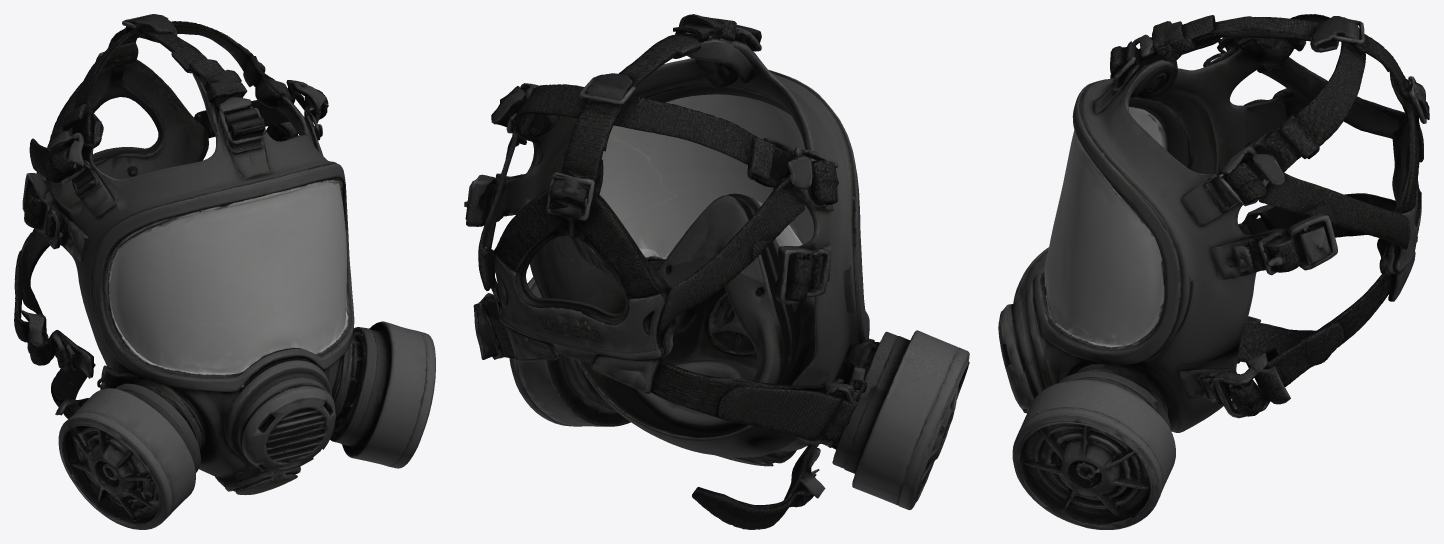
File: tripo_convert_0f854e67-35a1-4de2-b129-ab94b1eab4c1.fbx
3 renders of one model, left to right at view 1: azimuth 30°, elevation 25°; view 2: azimuth 150°, elevation 25°; view 3: azimuth 270°, elevation 25°, orthographic. The views are drawn at different scales.
Parts seen in each view (by area): view 1: tripo_part_5, tripo_part_19, tripo_part_8, tripo_part_6, tripo_part_0, tripo_part_16, tripo_part_1, tripo_part_4, tripo_part_17, tripo_part_10, tripo_part_3, tripo_part_14 (+15 smaller); view 2: tripo_part_0, tripo_part_1, tripo_part_29, tripo_part_19, tripo_part_4, tripo_part_3, tripo_part_8, tripo_part_13, tripo_part_24, tripo_part_25, tripo_part_10, tripo_part_6 (+14 smaller); view 3: tripo_part_0, tripo_part_8, tripo_part_5, tripo_part_4, tripo_part_6, tripo_part_1, tripo_part_2, tripo_part_7, tripo_part_3, tripo_part_28, tripo_part_16, tripo_part_12 (+10 smaller).
Part boxes in pixels (x1=…): tripo_part_5: x1=109, y1=181, x2=346, y2=374; tripo_part_19: x1=58, y1=376, x2=204, y2=529; tripo_part_8: x1=330, y1=321, x2=435, y2=468; tripo_part_6: x1=92, y1=162, x2=354, y2=392; tripo_part_0: x1=52, y1=100, x2=334, y2=395; tripo_part_16: x1=224, y1=358, x2=335, y2=471; tripo_part_1: x1=29, y1=59, x2=208, y2=210; tripo_part_4: x1=107, y1=14, x2=270, y2=179; tripo_part_17: x1=168, y1=356, x2=342, y2=477; tripo_part_10: x1=43, y1=131, x2=116, y2=218; tripo_part_3: x1=61, y1=21, x2=265, y2=131; tripo_part_14: x1=215, y1=461, x2=300, y2=495; tripo_part_0: x1=502, y1=40, x2=862, y2=451; tripo_part_1: x1=491, y1=177, x2=804, y2=393; tripo_part_29: x1=590, y1=94, x2=813, y2=257; tripo_part_19: x1=822, y1=330, x2=969, y2=510; tripo_part_4: x1=561, y1=14, x2=761, y2=184; tripo_part_3: x1=512, y1=84, x2=774, y2=181; tripo_part_8: x1=509, y1=277, x2=630, y2=426; tripo_part_13: x1=715, y1=386, x2=841, y2=440; tripo_part_24: x1=692, y1=444, x2=825, y2=529; tripo_part_25: x1=557, y1=352, x2=827, y2=417; tripo_part_10: x1=779, y1=147, x2=838, y2=211; tripo_part_6: x1=768, y1=70, x2=869, y2=342; tripo_part_0: x1=1054, y1=49, x2=1287, y2=415; tripo_part_8: x1=1012, y1=362, x2=1175, y2=529; tripo_part_5: x1=1044, y1=130, x2=1164, y2=345; tripo_part_4: x1=1093, y1=15, x2=1405, y2=114; tripo_part_6: x1=1033, y1=79, x2=1181, y2=364; tripo_part_1: x1=1257, y1=57, x2=1423, y2=301; tripo_part_2: x1=1237, y1=274, x2=1391, y2=417; tripo_part_7: x1=1211, y1=214, x2=1337, y2=279; tripo_part_3: x1=1279, y1=14, x2=1365, y2=158; tripo_part_28: x1=1259, y1=172, x2=1410, y2=249; tripo_part_16: x1=998, y1=282, x2=1052, y2=413; tripo_part_12: x1=1180, y1=146, x2=1284, y2=227.
Bounding box in the file's own units: 0.9273 × 1 × 0.8923.
